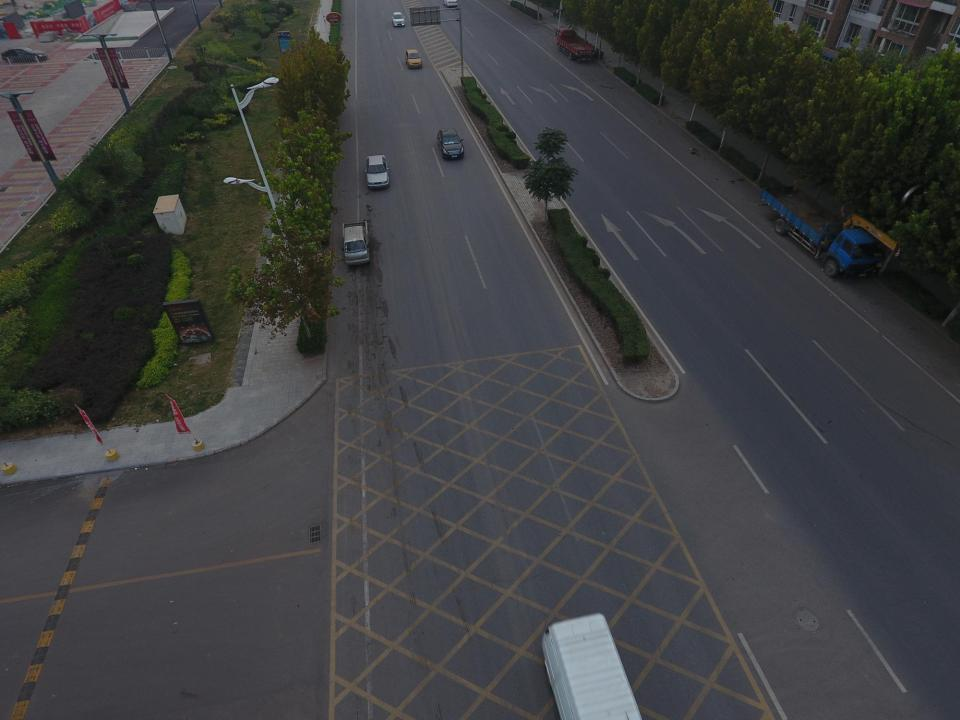car: (436, 128, 464, 161), (365, 154, 389, 188), (1, 48, 48, 63), (405, 50, 422, 68), (391, 11, 405, 27)
truck: (761, 187, 902, 279), (555, 30, 595, 61)
van: (541, 611, 645, 720), (342, 221, 370, 265)
